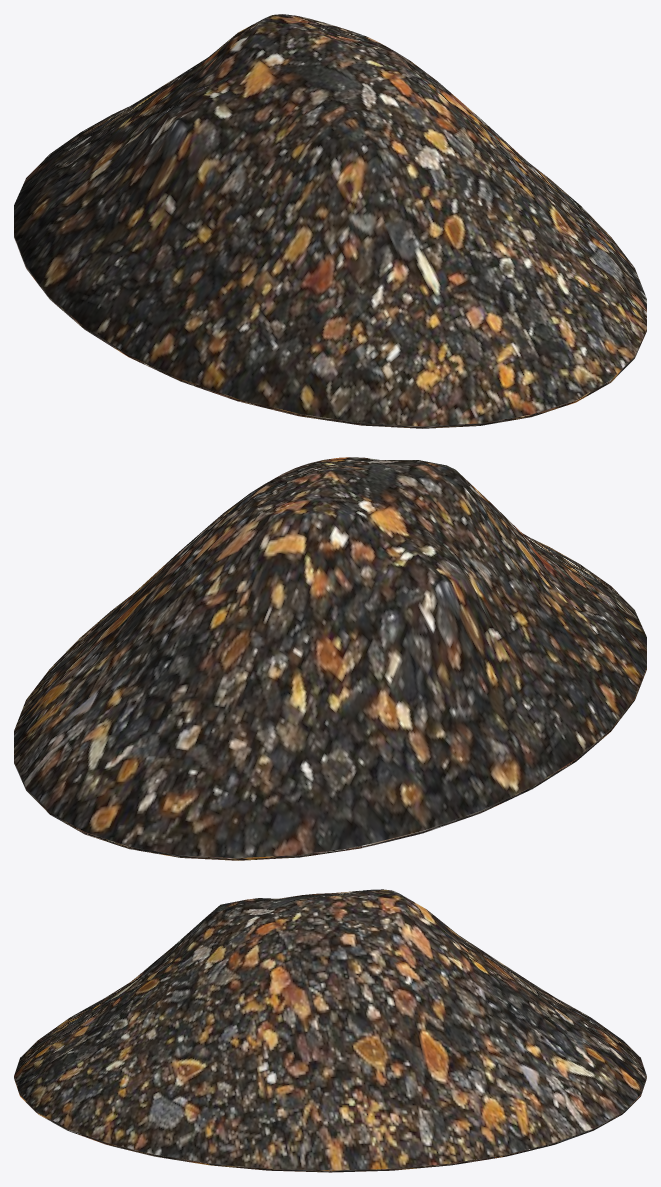
File: hornmealHaufen1.fbx
3 views of the same model, one above another, from view 1: azimuth 30°, elevation 25°; view 2: azimuth 150°, elevation 25°; view 3: azimuth 270°, elevation 25° (orthographic). The views are drawn at different scales.
Visible parts, largest first — view 1: HornMealHauf; view 2: HornMealHauf; view 3: HornMealHauf.
Part boxes in pixels (left/top/right/bottom): HornMealHauf: left=14, top=14, right=646, bottom=428; HornMealHauf: left=14, top=457, right=646, bottom=860; HornMealHauf: left=14, top=889, right=646, bottom=1172.
Size of the model in its own units: 871 by 409 by 1235.
